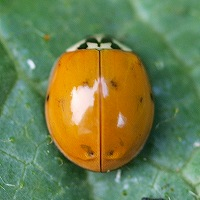Red: (44, 33, 154, 171)
